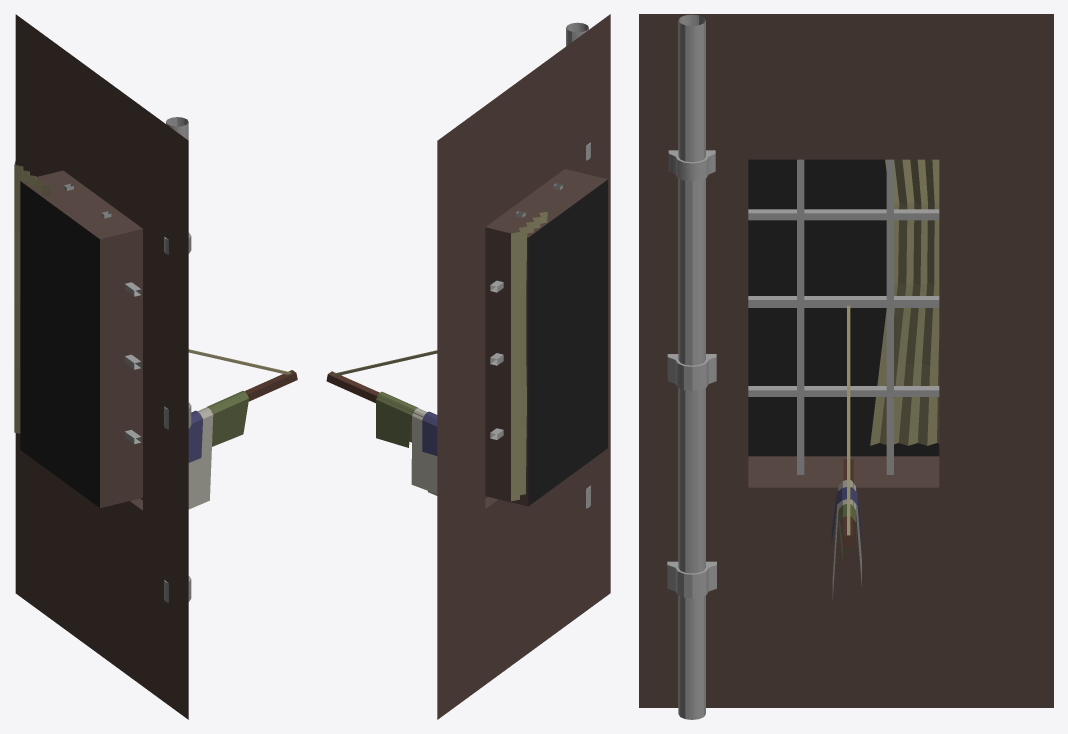
File: houseWall_5.fbx
3 views of the same model, side by side, from view 1: azimuth 30°, elevation 25°; view 2: azimuth 150°, elevation 25°; view 3: azimuth 270°, elevation 25° (orthographic). The views are drawn at different scales.
Visible parts, largest first — view 1: houseWall_5; view 2: houseWall_5; view 3: houseWall_5.
Boxes of the visible parts, x1,y1,x2,y2 form: houseWall_5: [14, 14, 297, 719]; houseWall_5: [326, 14, 610, 719]; houseWall_5: [639, 14, 1053, 719].
Bounding box in the file's own units: 206 × 480 × 260.
